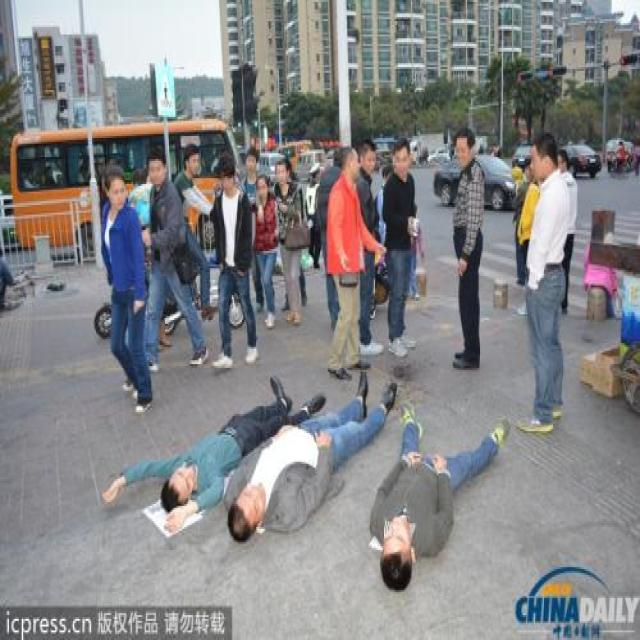10-: (81, 123, 638, 596)
down: (95, 366, 329, 535), (219, 358, 398, 542), (365, 391, 509, 596)
